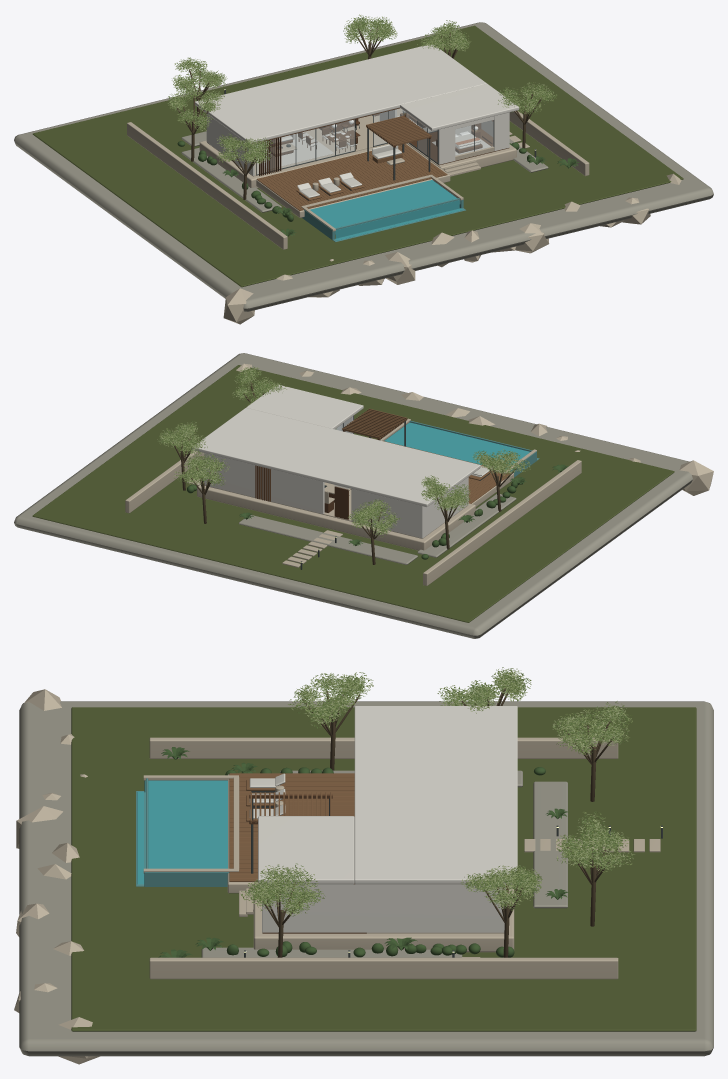
The model's file is horizon-villa.glb.
3 renders of one model, top to bottom at view 1: azimuth 30°, elevation 25°; view 2: azimuth 150°, elevation 25°; view 3: azimuth 270°, elevation 25°, orthographic. The views are drawn at different scales.
Parts seen in each view (by area): view 1: Low maintenance garden, Coastal garden earth, Main roof slab, Olive trees | individual leaf canopies, East roof slab, Pool water surface, Garden retaining wall, Main continuous limestone floor, Garden retaining wall.001, Gravel planting bed, Infinity overflow water curtain, Raised limestone foundation | main wing (+15 smaller); view 2: Low maintenance garden, Coastal garden earth, Main roof slab, Olive trees | individual leaf canopies, Rear plaster wall.001, Raised limestone foundation | main wing, East roof slab, Pool water surface, Garden retaining wall, Gravel planting bed.002, Rear plaster wall, Gravel planting bed (+4 smaller); view 3: Low maintenance garden, Coastal garden earth, Main roof slab, Olive trees | individual leaf canopies, Garden retaining wall.001, East solid end wall, Pool water surface, East roof slab, Garden retaining wall, Gravel planting bed.002, Raised limestone foundation | main wing, Raised foundation | bedroom wing (+4 smaller).
Part boxes in pixels (x1,y1,x2,y2): Low maintenance garden: (32, 25, 683, 287); Coastal garden earth: (14, 22, 713, 311); Main roof slab: (195, 44, 486, 143); Olive trees | individual leaf canopies: (167, 14, 556, 164); East roof slab: (400, 83, 519, 131); Pool water surface: (310, 180, 457, 228); Garden retaining wall: (127, 122, 287, 249); Main continuous limestone floor: (207, 108, 436, 176); Garden retaining wall.001: (509, 110, 589, 175); Gravel planting bed: (181, 147, 281, 212); Infinity overflow water curtain: (335, 200, 459, 238); Raised limestone foundation | main wing: (199, 140, 388, 188); Low maintenance garden: (32, 365, 674, 622); Coastal garden earth: (14, 353, 692, 638); Main roof slab: (192, 408, 480, 507); Olive trees | individual leaf canopies: (157, 366, 530, 537); Rear plaster wall.001: (204, 453, 324, 513); Raised limestone foundation | main wing: (197, 484, 475, 550); East roof slab: (246, 384, 363, 429); Pool water surface: (384, 422, 529, 468); Garden retaining wall: (423, 460, 581, 585); Gravel planting bed.002: (239, 515, 417, 564); Rear plaster wall: (351, 489, 422, 538); Gravel planting bed: (417, 494, 516, 557); Low maintenance garden: (71, 707, 696, 1031); Coastal garden earth: (19, 701, 713, 1056); Main roof slab: (354, 706, 517, 884); Olive trees | individual leaf canopies: (241, 667, 634, 916); Garden retaining wall.001: (149, 957, 618, 979); East solid end wall: (262, 884, 505, 932); Pool water surface: (148, 780, 227, 868); East roof slab: (258, 816, 354, 884); Garden retaining wall: (149, 737, 618, 758); Gravel planting bed.002: (533, 781, 567, 908); Raised limestone foundation | main wing: (360, 884, 514, 952); Raised foundation | bedroom wing: (253, 882, 373, 949).
Size of the model in its own units: 48.15 by 9.43 by 40.31.
